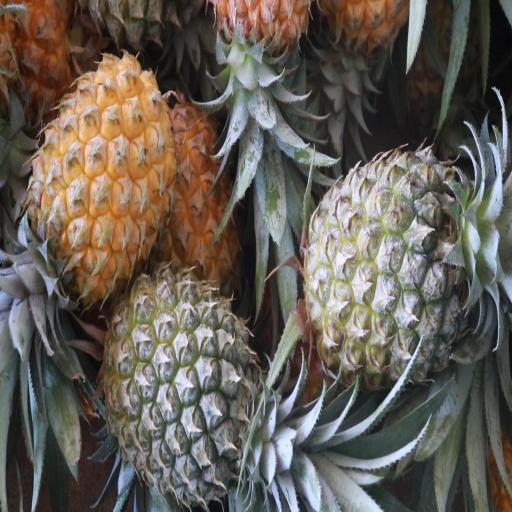Pineapple - v8 v1: (28, 56, 175, 301), (168, 103, 252, 300)
